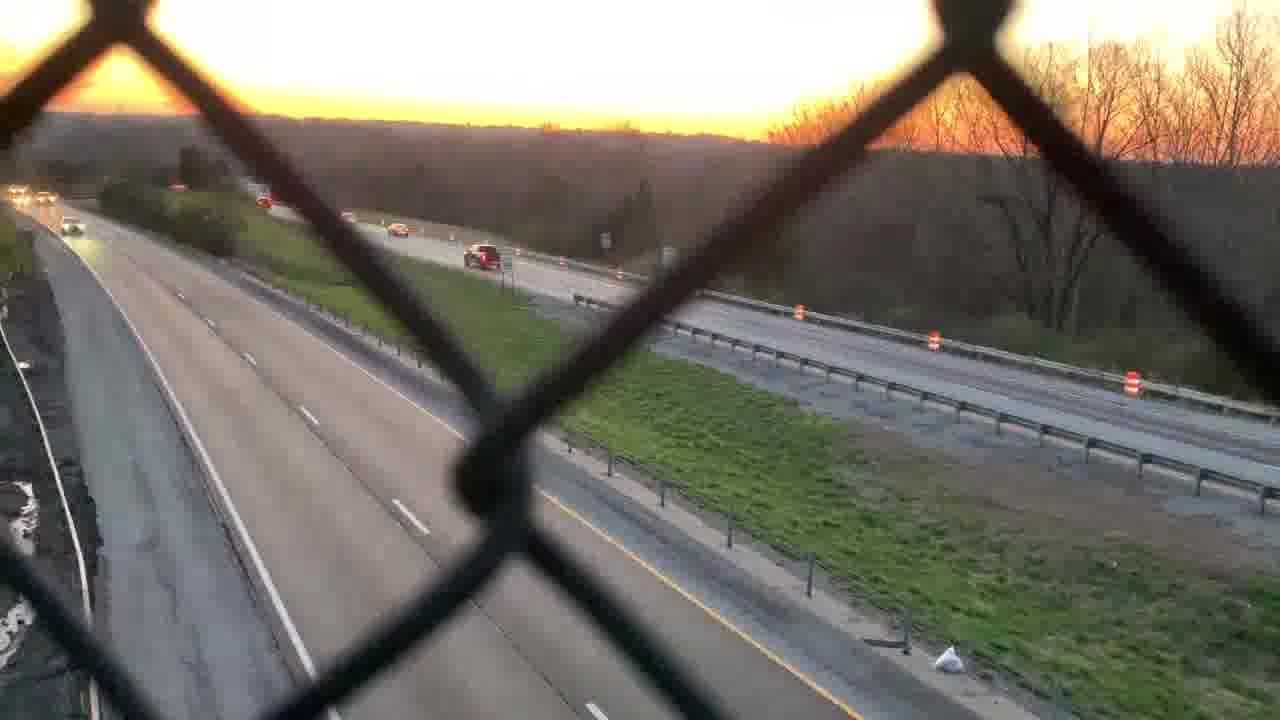lightTruck: (457, 239, 506, 271)
vehicle: (58, 213, 85, 235), (389, 219, 415, 236), (37, 190, 59, 209), (250, 196, 276, 207), (8, 193, 31, 204), (166, 178, 187, 190), (338, 208, 357, 221), (5, 184, 29, 193)
